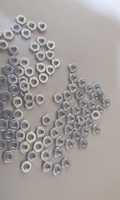nut: (6, 139, 19, 152), (2, 151, 15, 163), (20, 161, 33, 173), (19, 141, 31, 154), (9, 119, 21, 132), (3, 129, 15, 141), (26, 132, 37, 144), (42, 115, 53, 127), (24, 93, 35, 105), (8, 55, 20, 66), (21, 28, 32, 40), (37, 21, 48, 33), (28, 150, 38, 163), (21, 119, 31, 132), (35, 94, 46, 105), (42, 162, 53, 173), (19, 81, 30, 92), (43, 136, 54, 147), (4, 30, 15, 41), (9, 45, 20, 56), (51, 58, 62, 69), (63, 125, 74, 136), (91, 110, 102, 121), (34, 141, 44, 153), (16, 130, 26, 142), (2, 109, 12, 121), (53, 164, 63, 176), (8, 74, 18, 86), (29, 76, 39, 88), (39, 73, 49, 85), (3, 65, 15, 75), (12, 22, 22, 34), (17, 14, 27, 26), (27, 20, 37, 32), (54, 93, 64, 105), (0, 39, 9, 52), (37, 127, 47, 138), (12, 97, 22, 108), (0, 92, 10, 103), (42, 150, 52, 161), (29, 42, 40, 52), (46, 65, 56, 76), (62, 158, 72, 169), (78, 140, 89, 150), (50, 128, 60, 139), (57, 109, 67, 120), (63, 91, 73, 102), (75, 90, 85, 101), (72, 105, 82, 116), (81, 126, 91, 137), (37, 62, 46, 74), (56, 136, 65, 148), (55, 118, 64, 130), (14, 110, 24, 120), (20, 58, 30, 68), (36, 51, 46, 61), (25, 67, 35, 77), (54, 149, 64, 159), (72, 132, 82, 142), (68, 63, 78, 73), (68, 73, 78, 83), (10, 86, 19, 97), (37, 36, 46, 47), (66, 139, 75, 150), (103, 97, 112, 108), (74, 120, 83, 131), (0, 139, 7, 152), (25, 99, 34, 109), (20, 88, 29, 98), (19, 76, 28, 86), (78, 79, 87, 89), (80, 100, 89, 110), (83, 108, 92, 118), (63, 101, 72, 111), (96, 106, 106, 115), (0, 121, 8, 132), (86, 84, 94, 95), (93, 125, 101, 136), (0, 76, 7, 88), (47, 40, 56, 49), (91, 92, 100, 101), (67, 114, 76, 123), (70, 83, 78, 93), (94, 83, 102, 92), (89, 102, 97, 110), (48, 50, 55, 59), (15, 68, 24, 75), (85, 119, 94, 126), (77, 116, 85, 123), (0, 101, 5, 112), (0, 27, 3, 39)
